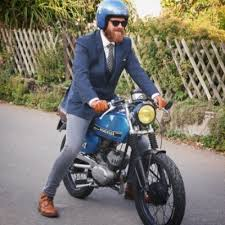helmet: (95, 1, 131, 36)
